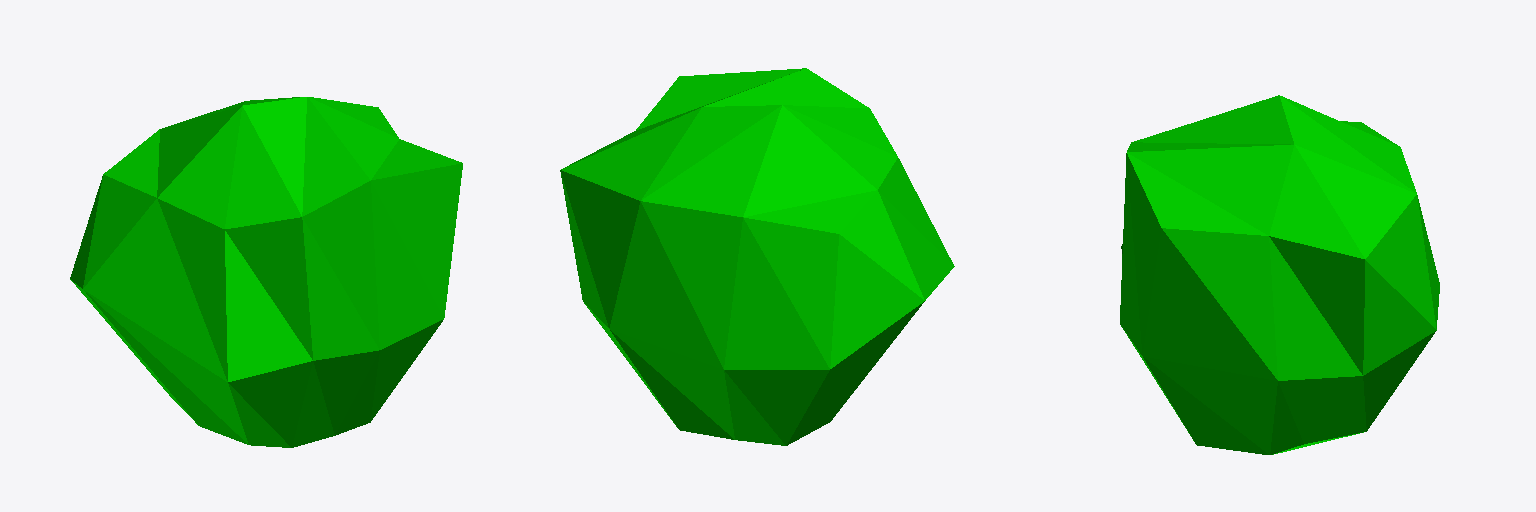
The model's file is Bush_1.obj.
3 renders of one model, left to right at view 1: azimuth 30°, elevation 25°; view 2: azimuth 150°, elevation 25°; view 3: azimuth 270°, elevation 25°, orthographic.
Parts seen in each view (by area): view 1: Cube; view 2: Cube; view 3: Cube.
Boxes of the visible parts, x1=… form: Cube: x1=70, y1=97, x2=462, y2=447; Cube: x1=560, y1=68, x2=954, y2=445; Cube: x1=1120, y1=95, x2=1439, y2=454.
Bounding box in the file's own units: 2.72 × 2.43 × 2.29.